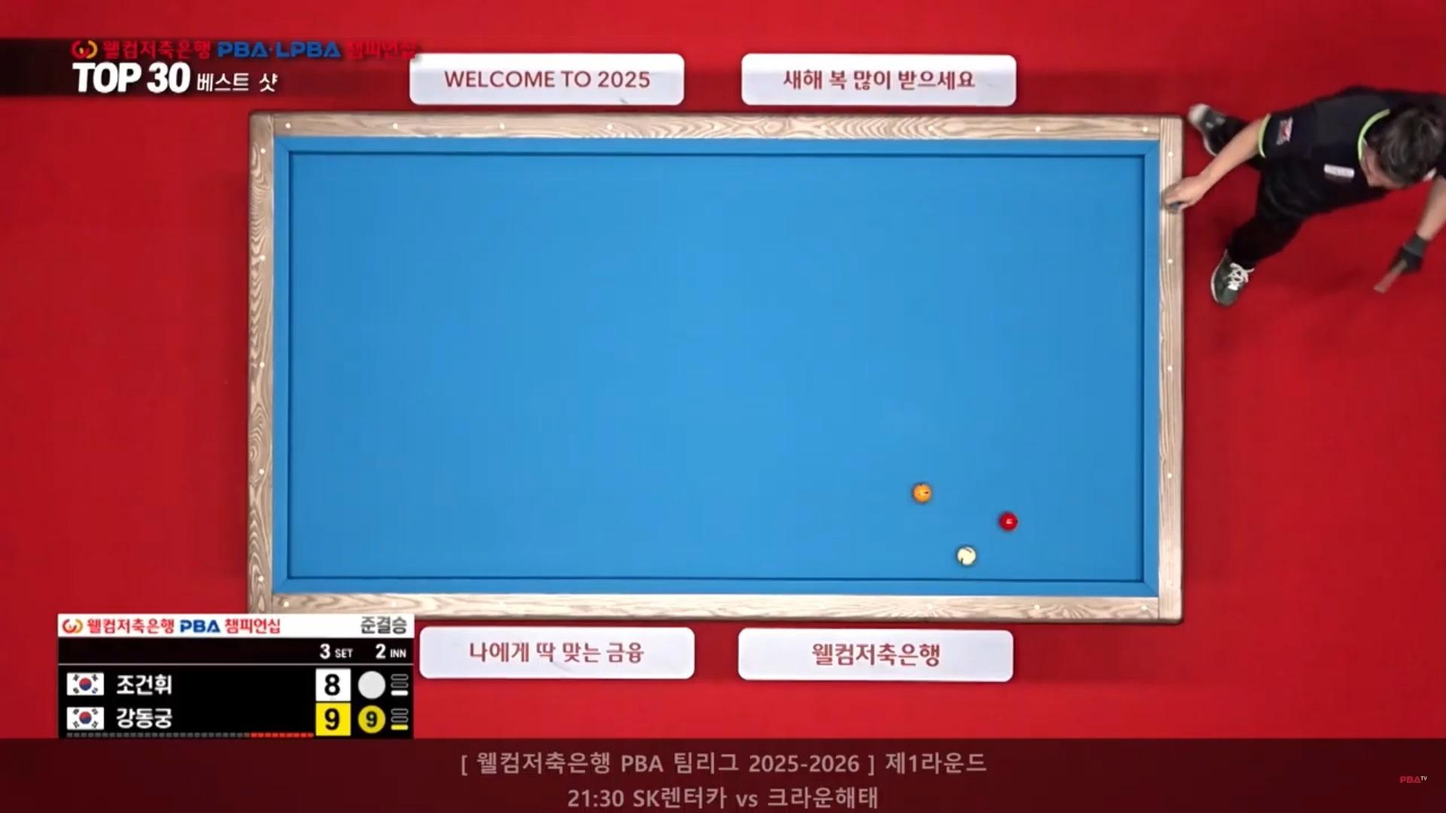Red: (1001, 515, 1024, 533)
White: (955, 546, 979, 565)
